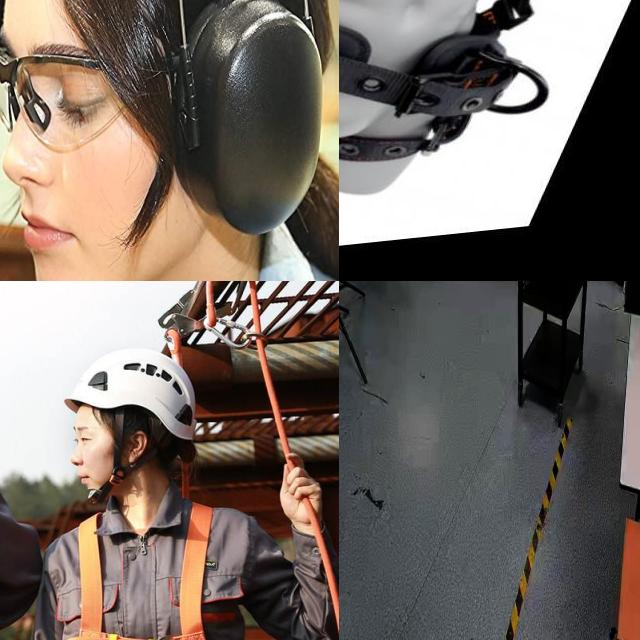Ear-protection: (87, 0, 336, 240)
Harness: (339, 0, 549, 163), (54, 503, 243, 640)
No_Ear-Protection: (122, 431, 147, 465)
glasses: (0, 35, 152, 152)
